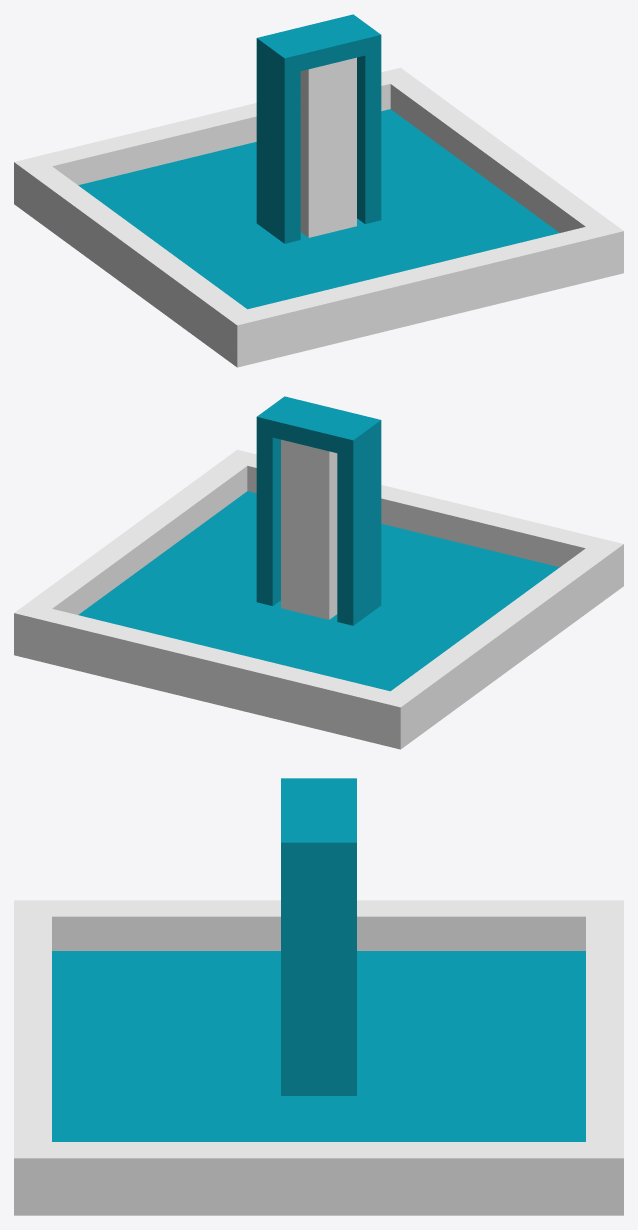
Rendered from fountain.gltf.
3 renders of one model, top to bottom at view 1: azimuth 30°, elevation 25°; view 2: azimuth 150°, elevation 25°; view 3: azimuth 270°, elevation 25°, orthographic. The views are drawn at different scales.
Visible parts, largest first — view 1: cube; view 2: cube; view 3: cube.
Boxes of the visible parts, <box> form: cube: <box>14,14,623,367</box>; cube: <box>14,396,623,749</box>; cube: <box>14,778,623,1215</box>.
Bounding box in the file's own units: 30 × 15 × 30.
Materials: 1 (1 with a texture image).
